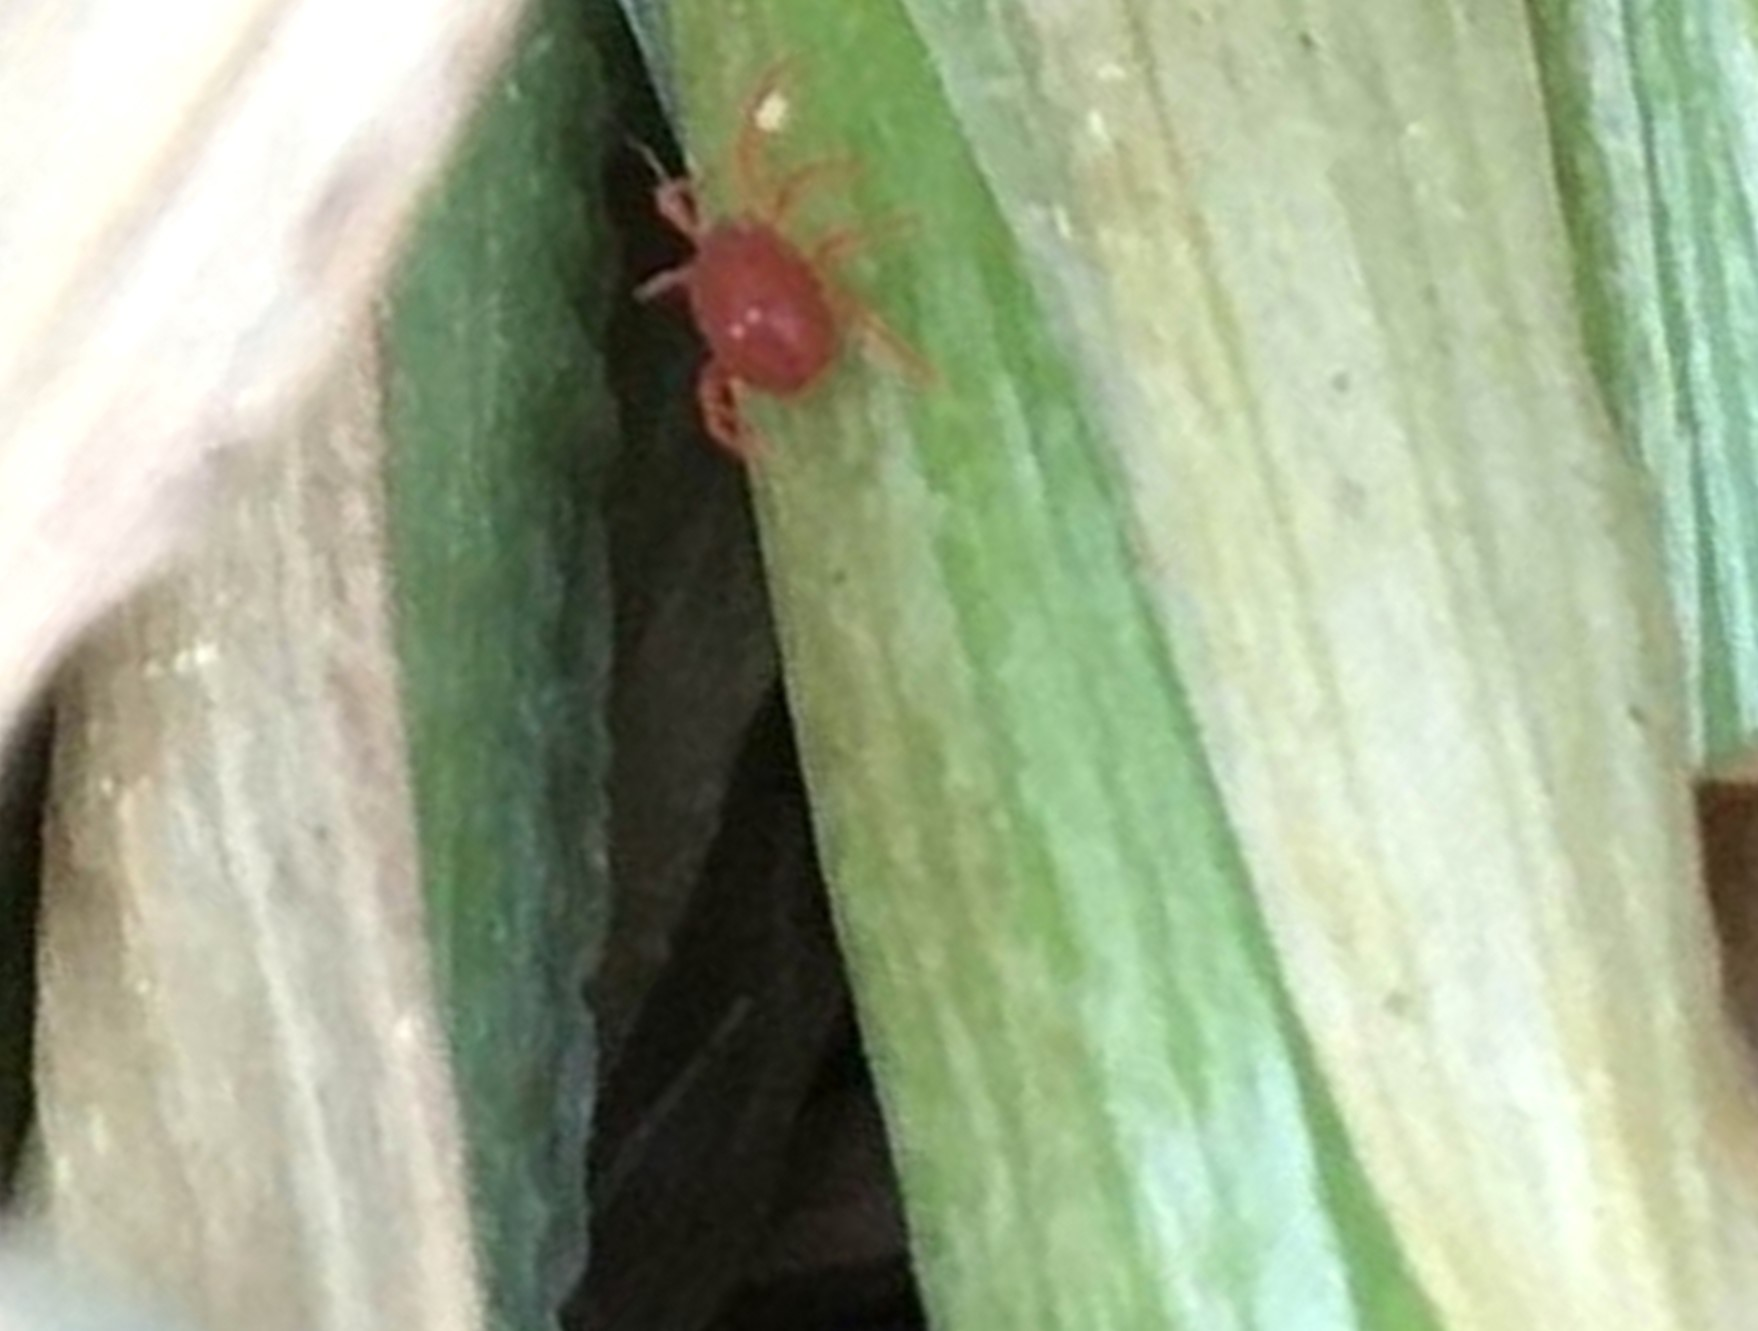Wheat Red Spider: (606, 34, 992, 519)
